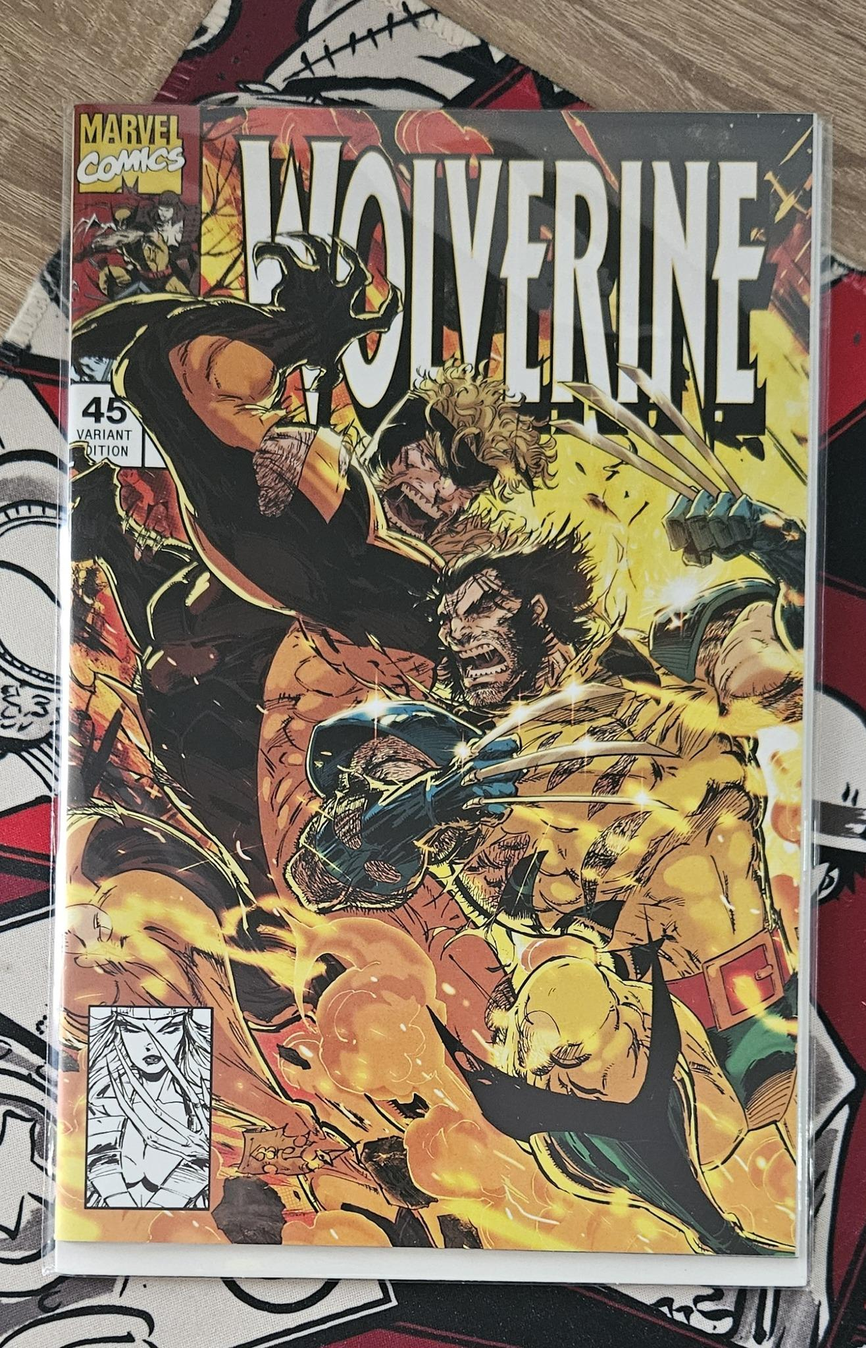comic: (51, 101, 828, 1285)
